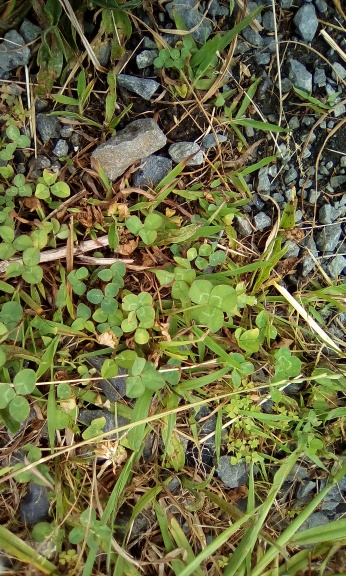4leaf: (121, 291, 156, 326)
